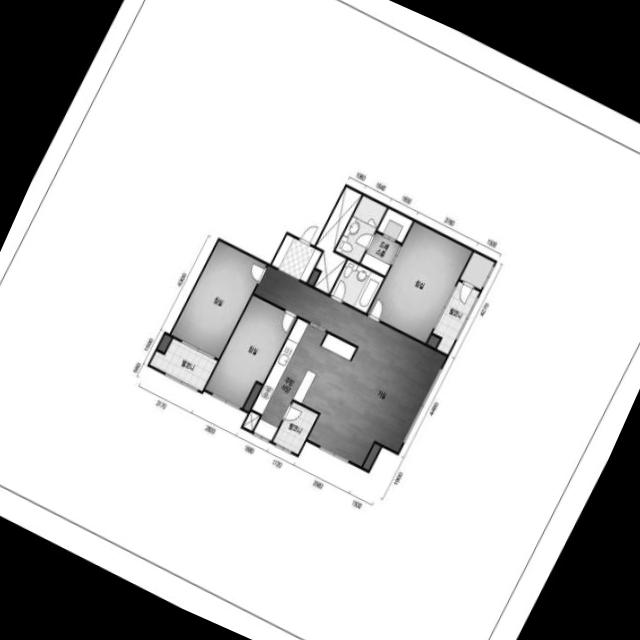background: (0, 0, 640, 640)
space_balconi: (149, 338, 217, 391), (433, 281, 480, 354), (273, 402, 318, 454)
space_bedroom: (368, 222, 472, 343), (171, 241, 266, 358), (205, 296, 296, 408)
space_dressroom: (361, 233, 400, 276), (377, 209, 412, 243)
space_front: (272, 235, 321, 283)
space_kitchen: (252, 319, 356, 441)
space_living_room: (254, 266, 447, 467)
space_other: (314, 187, 362, 294), (460, 252, 494, 290), (243, 384, 261, 411), (363, 444, 381, 470), (243, 412, 259, 431), (158, 335, 171, 352), (308, 270, 319, 286), (427, 335, 440, 348)
space_toilet: (335, 196, 386, 263), (330, 260, 384, 313)
